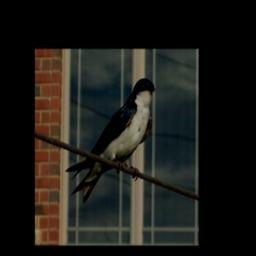Swallow: (64, 77, 156, 204)
